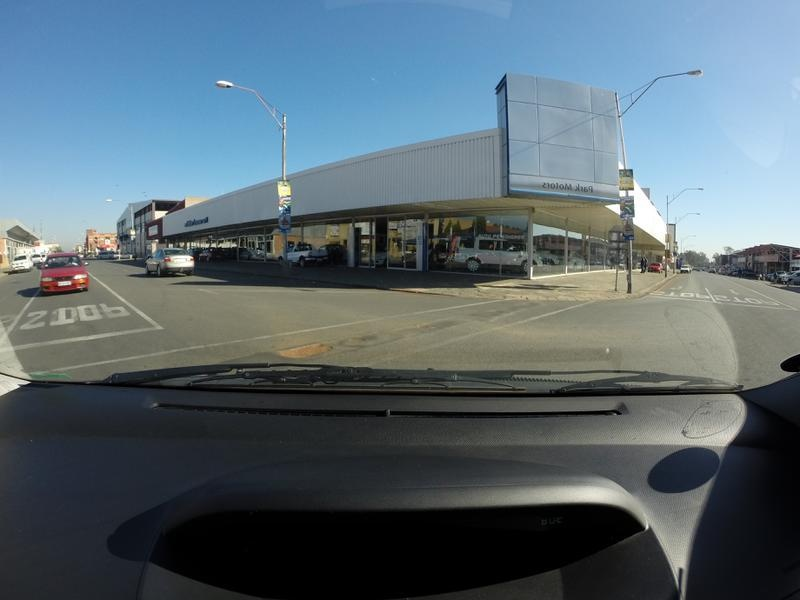pothole: (278, 335, 327, 358), (345, 330, 376, 343)
